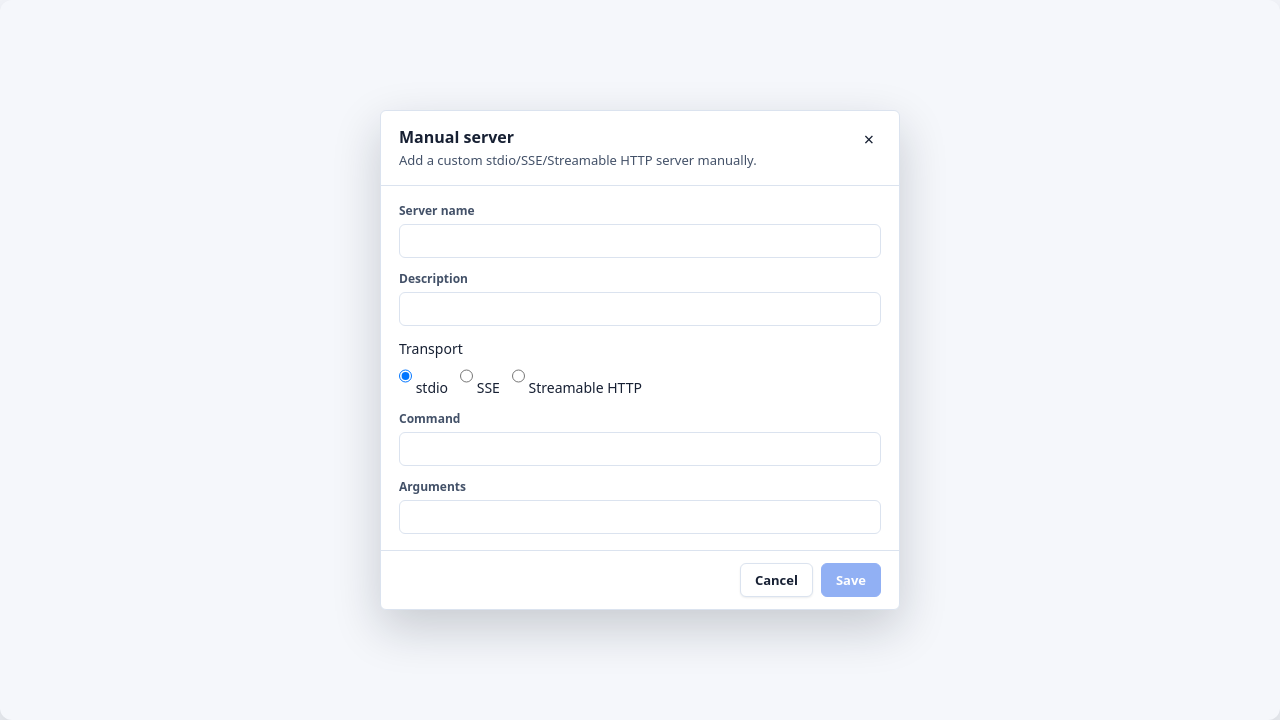
McpServerFormDialog › shows URL field when SSE transport is selected
# Click the SSE radio button
Click the radio button with test id "mcp-form-sse". click: (467, 376)
box: [460,360,473,394]
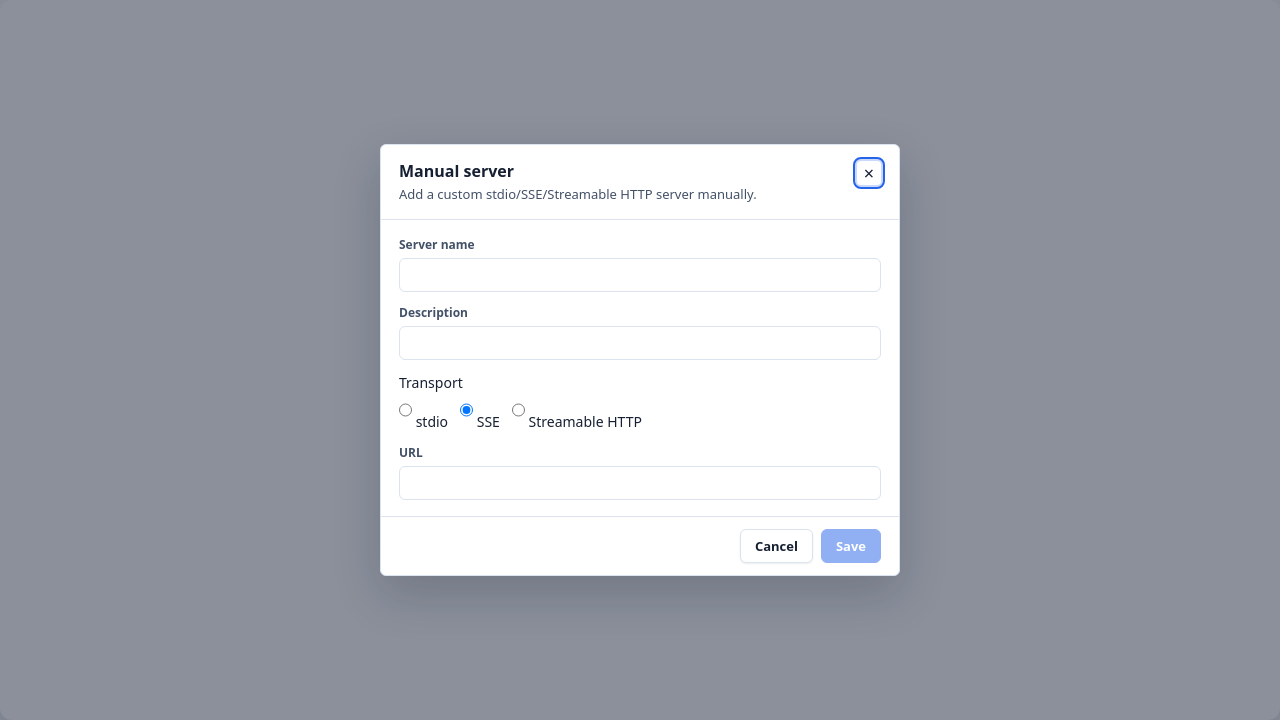
Now the field with test id "mcp-form-url" is shown, box [399,466,881,500]
